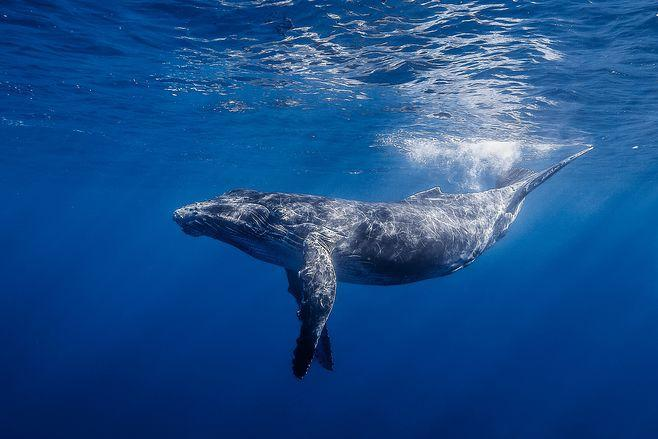fish: (172, 144, 592, 381)
